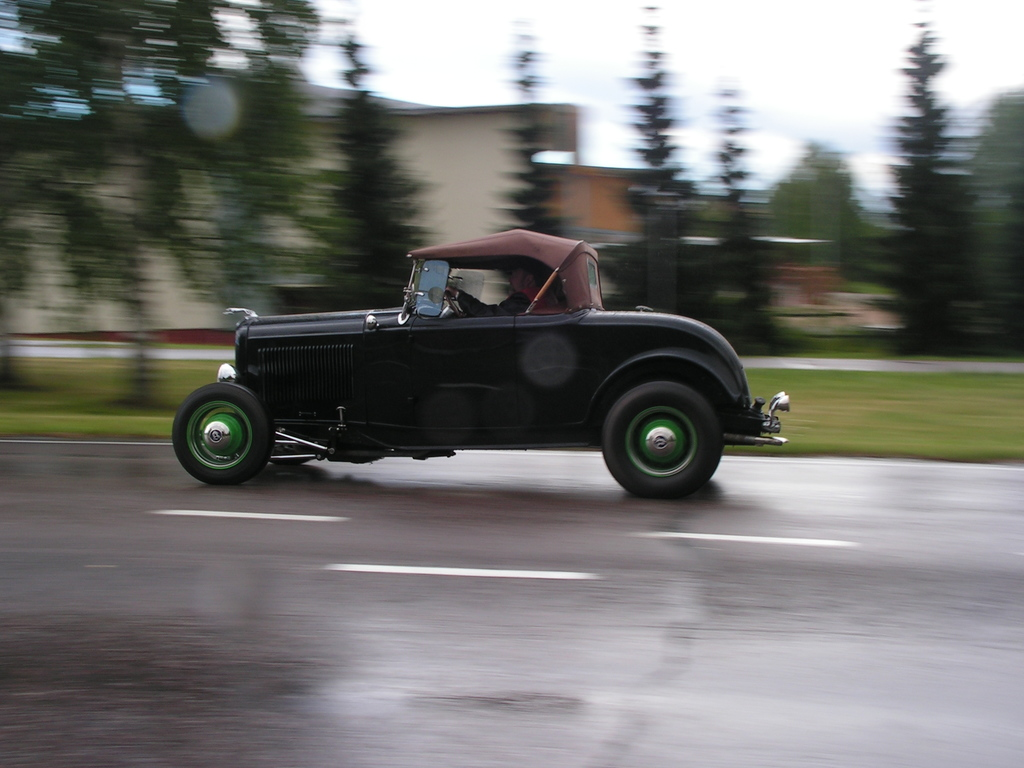Car: (165, 221, 794, 499)
